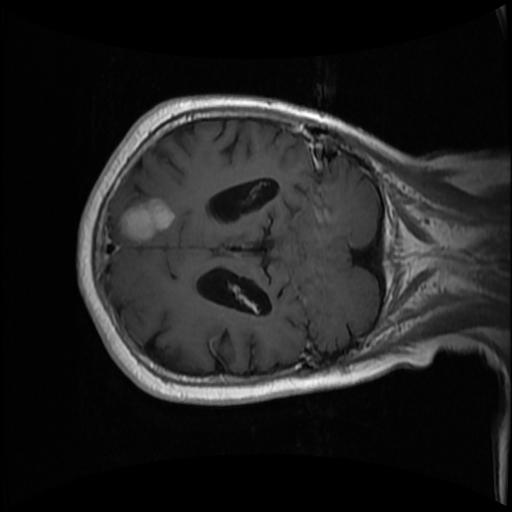meningioma: (118, 199, 174, 243)
